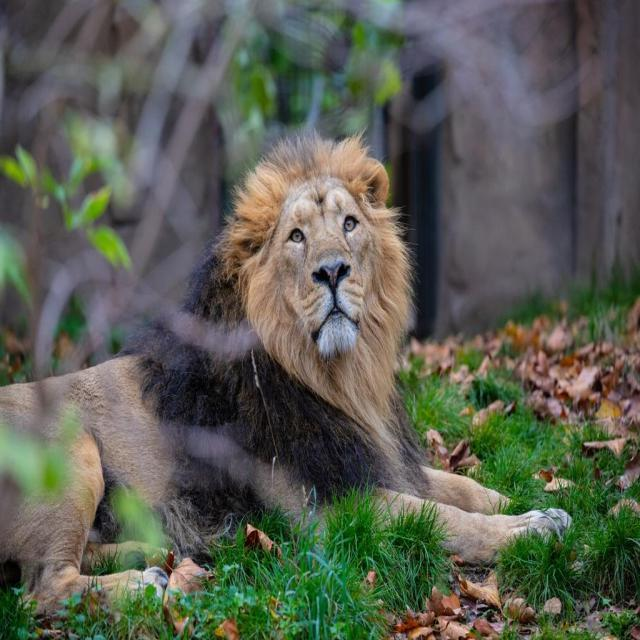lions: (0, 124, 606, 634)
